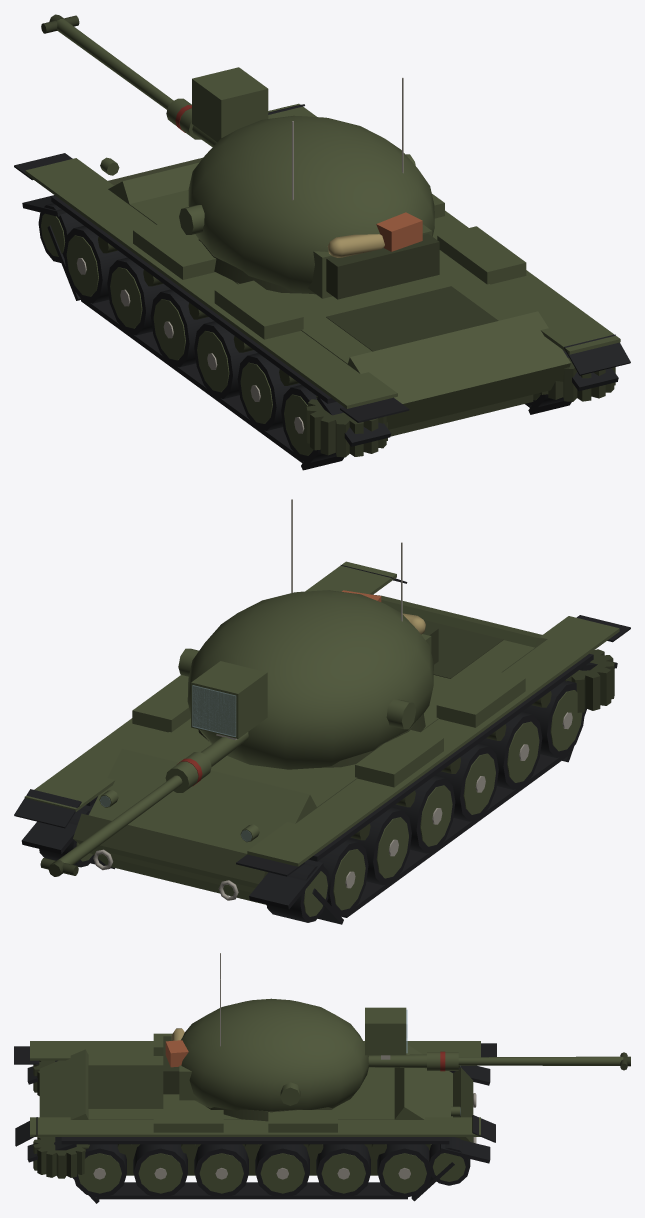
File: m48-patton-main-battle.glb
3 renders of one model, top to bottom at view 1: azimuth 30°, elevation 25°; view 2: azimuth 150°, elevation 25°; view 3: azimuth 270°, elevation 25°, orthographic. The views are drawn at different scales.
Parts seen in each view (by area): view 1: Mesh_TurretDome, Mesh_RearPlate, Mesh_Fender_R, Mesh_UpperHull, Mesh_EngineGrille, Mesh_Fender_L, Mesh_BustleBasket, Mesh_SearchlightBody, Mesh_FenderLocker_R1, Mesh_FenderLocker_L1, Mesh_FenderLocker_R0, Mesh_Sprocket_R (+29 smaller); view 2: Mesh_TurretDome, Mesh_GlacisUpper, Mesh_Fender_R, Mesh_UpperHull, Mesh_GlacisLower, Mesh_Fender_L, Mesh_SearchlightBody, Mesh_FenderLocker_R1, Mesh_FenderLocker_R0, Mesh_TrackTop_R, Mesh_TrackBot_R, Mesh_EngineGrille (+26 smaller); view 3: Mesh_TurretDome, Mesh_Fender_L, Mesh_UpperHull, Mesh_EngineGrille, Mesh_TrackTop_L, Mesh_GlacisUpper, Mesh_RearPlate, Mesh_Fender_R, Mesh_TrackBot_L, Mesh_SearchlightBody, Mesh_Sprocket_L, Mesh_FenderLocker_L1 (+28 smaller).
Boxes of the visible parts, <box> form: Mesh_TurretDome: <box>188,115,434,294</box>; Mesh_RearPlate: <box>348,311,570,429</box>; Mesh_Fender_R: <box>25,158,397,408</box>; Mesh_UpperHull: <box>114,190,528,371</box>; Mesh_EngineGrille: <box>326,286,498,351</box>; Mesh_Fender_L: <box>268,103,620,354</box>; Mesh_BustleBasket: <box>326,233,439,299</box>; Mesh_SearchlightBody: <box>192,67,268,142</box>; Mesh_FenderLocker_R1: <box>214,280,303,339</box>; Mesh_FenderLocker_L1: <box>437,226,526,284</box>; Mesh_FenderLocker_R0: <box>133,221,216,279</box>; Mesh_Sprocket_R: <box>306,396,387,457</box>; Mesh_TurretDome: <box>187,590,433,769</box>; Mesh_GlacisUpper: <box>89,748,316,892</box>; Mesh_Fender_R: <box>247,616,619,866</box>; Mesh_UpperHull: <box>140,640,534,817</box>; Mesh_GlacisLower: <box>73,813,267,904</box>; Mesh_Fender_L: <box>24,561,396,811</box>; Mesh_SearchlightBody: <box>191,661,267,738</box>; Mesh_FenderLocker_R1: <box>436,669,525,727</box>; Mesh_FenderLocker_R0: <box>355,730,443,787</box>; Mesh_TrackTop_R: <box>308,653,593,861</box>; Mesh_TrackBot_R: <box>342,751,568,917</box>; Mesh_EngineGrille: <box>424,620,503,678</box>; Mesh_TurretDome: <box>181,998,368,1111</box>; Mesh_Fender_L: <box>30,1117,480,1136</box>; Mesh_UpperHull: <box>75,1055,416,1119</box>; Mesh_EngineGrille: <box>88,1065,163,1108</box>; Mesh_TrackTop_L: <box>61,1137,449,1144</box>; Mesh_GlacisUpper: <box>394,1044,452,1144</box>; Mesh_RearPlate: <box>39,1049,88,1119</box>; Mesh_Fender_R: <box>30,1041,480,1060</box>; Mesh_TrackBot_L: <box>96,1182,407,1199</box>; Mesh_SearchlightBody: <box>365,1007,406,1055</box>; Mesh_Sprocket_L: <box>33,1137,89,1178</box>; Mesh_FenderLocker_L1: <box>153,1110,223,1132</box>.
Size of the model in its own units: 3.79 by 3.43 by 9.71.
Materials: 2 (2 with a texture image).
